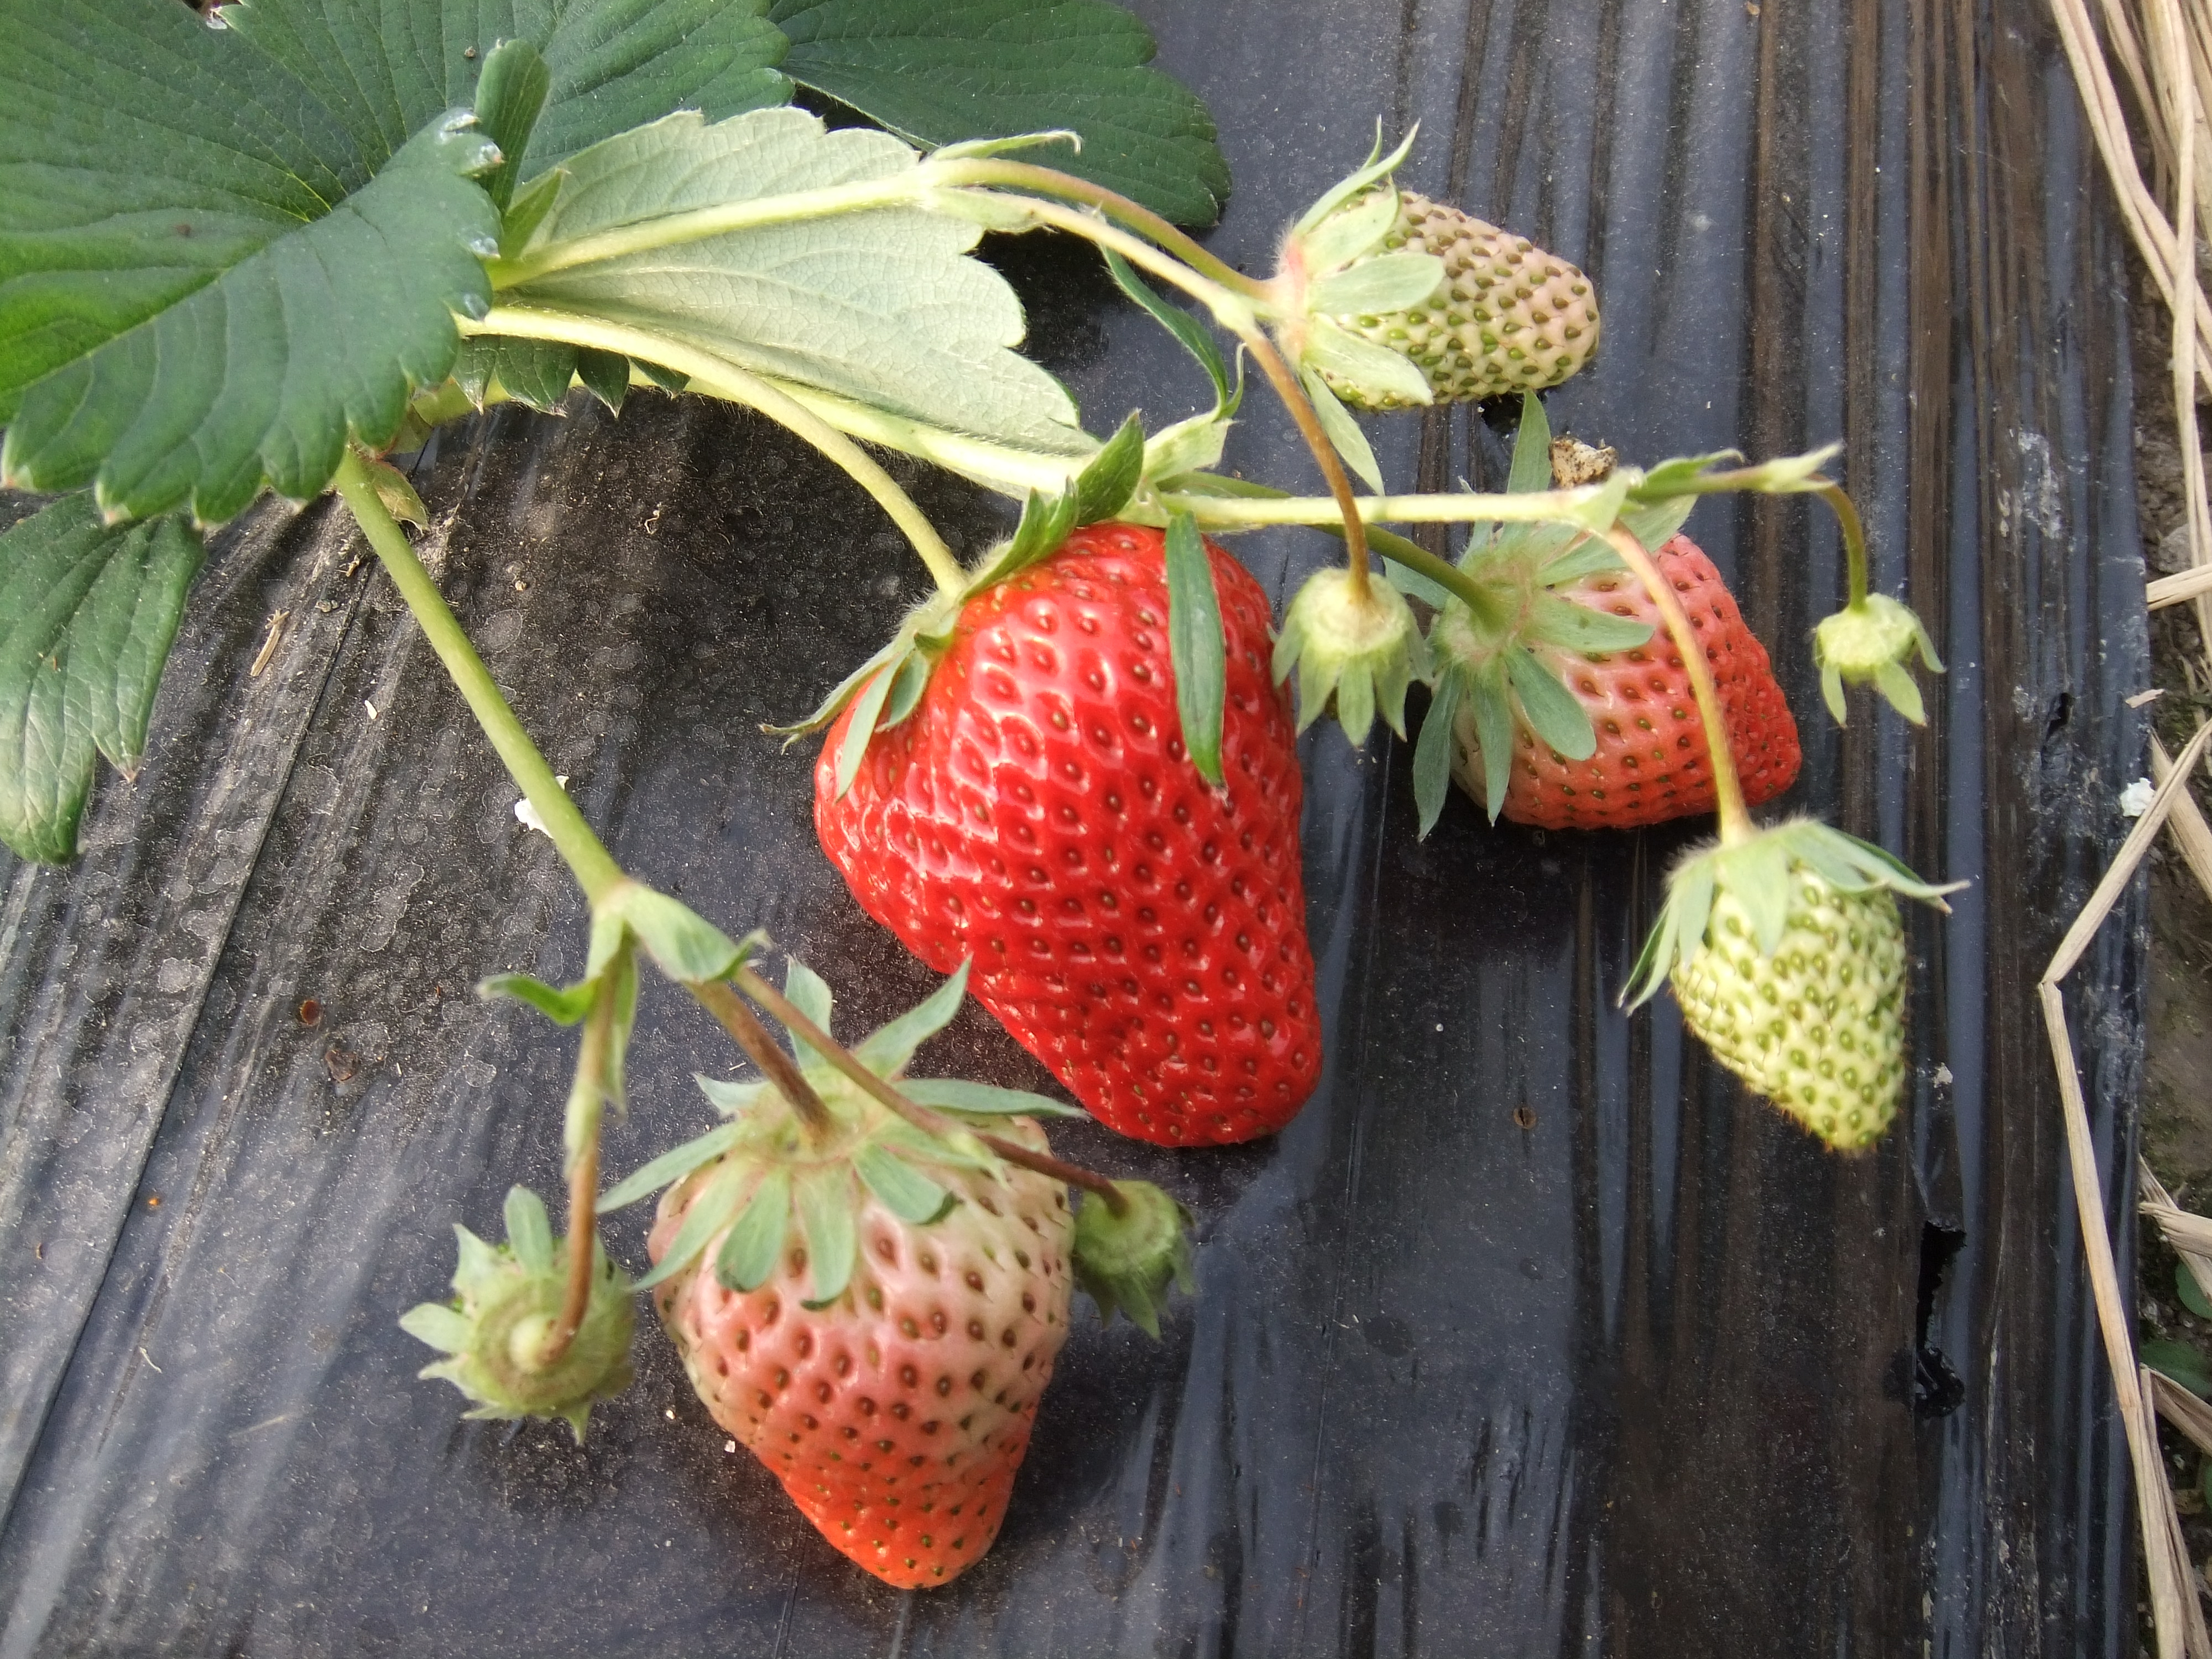StrawberryCone: (782, 495, 1357, 1159)
StrawberryIrremovable: (646, 1094, 1082, 1593), (1437, 488, 1811, 831), (1662, 821, 1902, 1155), (1275, 190, 1608, 416)
StrawberryRemovable: (787, 509, 1346, 1141)
